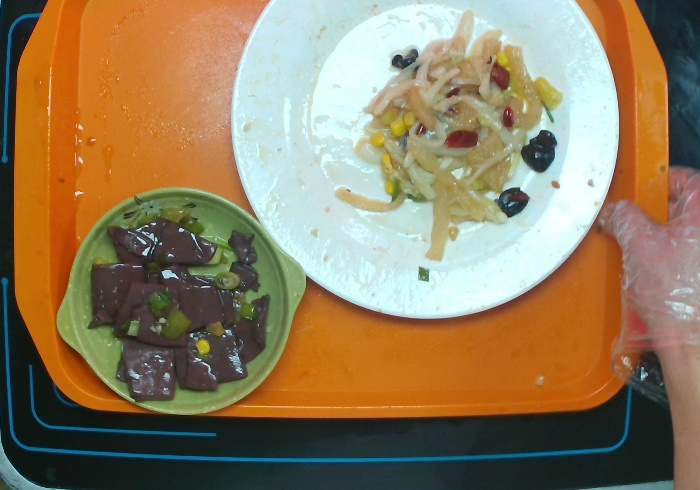NLDX-Da_Yuan_Pan: (231, 3, 620, 318)
NLDX-Lv_Hua_Shuang_Er_Die: (52, 183, 308, 416)
